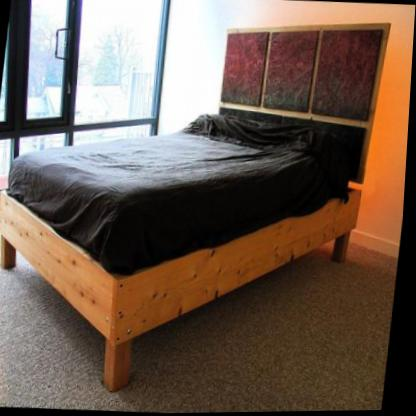Bed: (0, 26, 391, 391)
Carpet: (161, 246, 401, 414)
